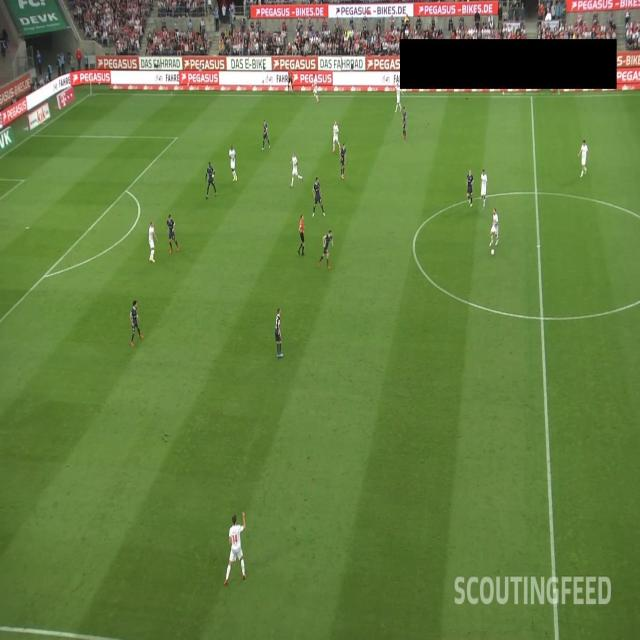ball: (491, 248, 495, 257)
